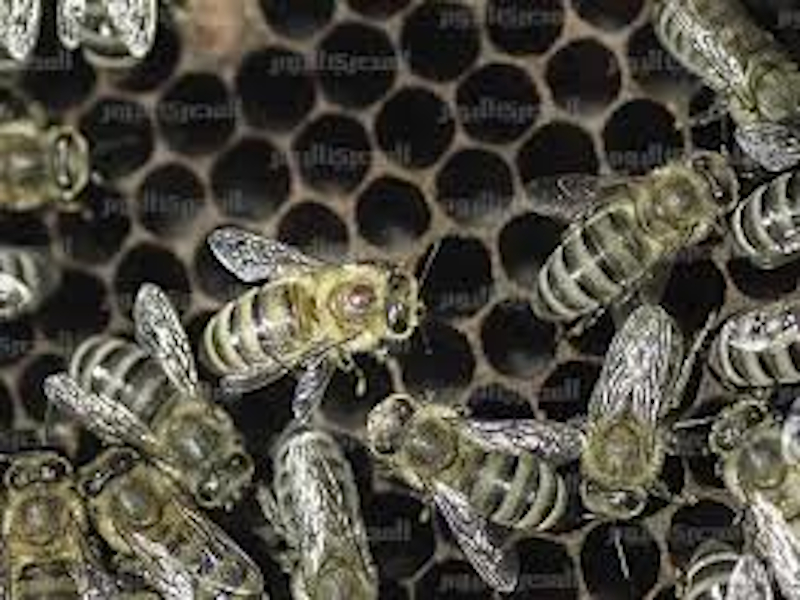abeja: (519, 134, 755, 336), (44, 302, 267, 514), (354, 384, 616, 549), (211, 223, 419, 417), (64, 430, 240, 600), (1, 446, 80, 545)
